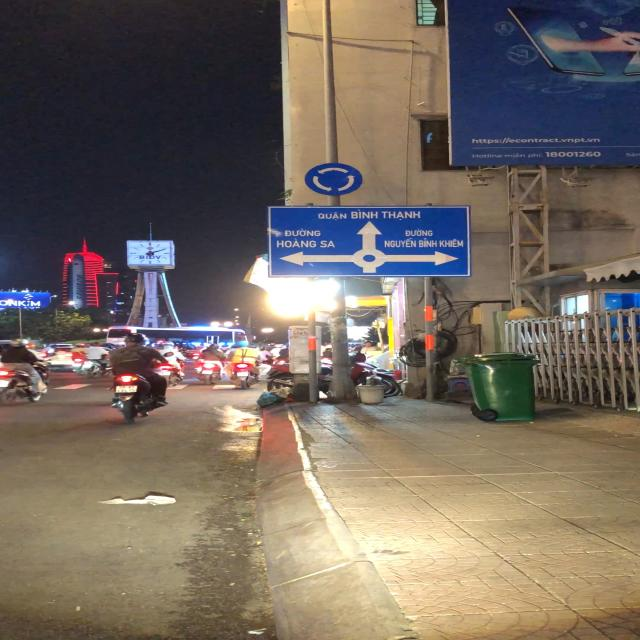Bien bao noi giao nhau chay theo vong xuyen: (304, 162, 368, 198)
